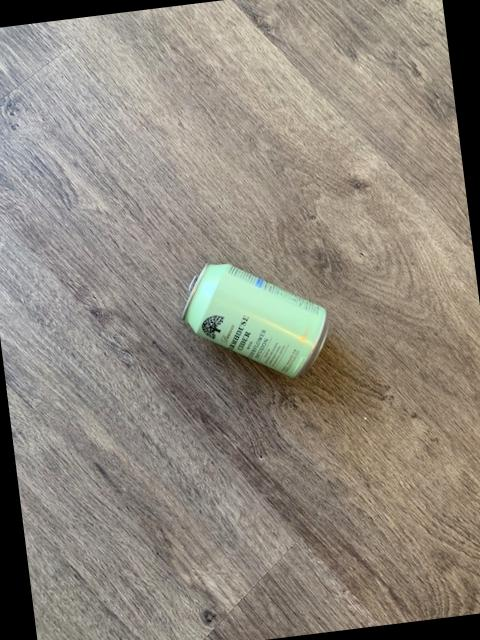metal: (181, 262, 327, 375)
